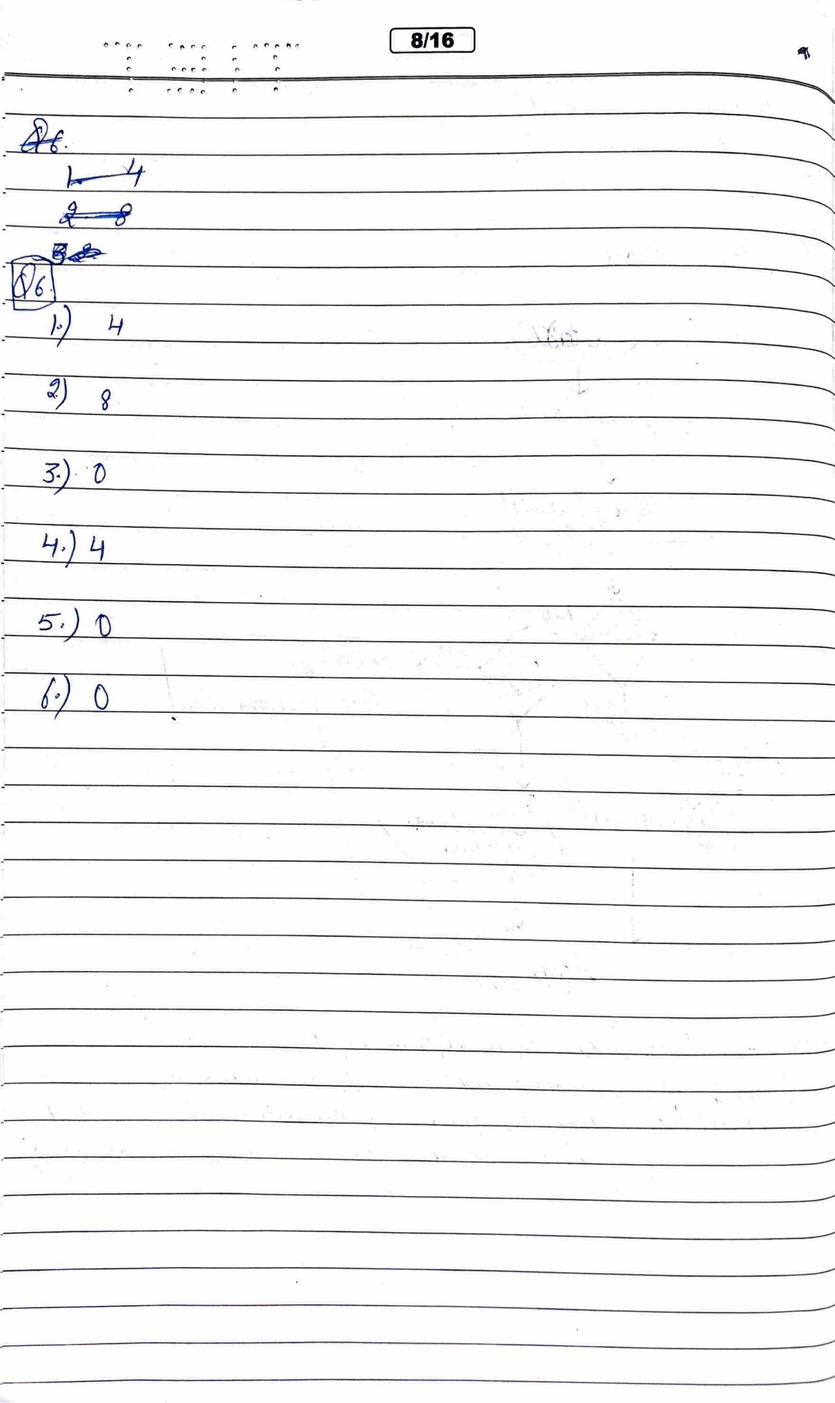cuttings: (66, 157, 147, 190), (58, 200, 133, 229), (18, 116, 68, 155), (51, 241, 108, 266)
